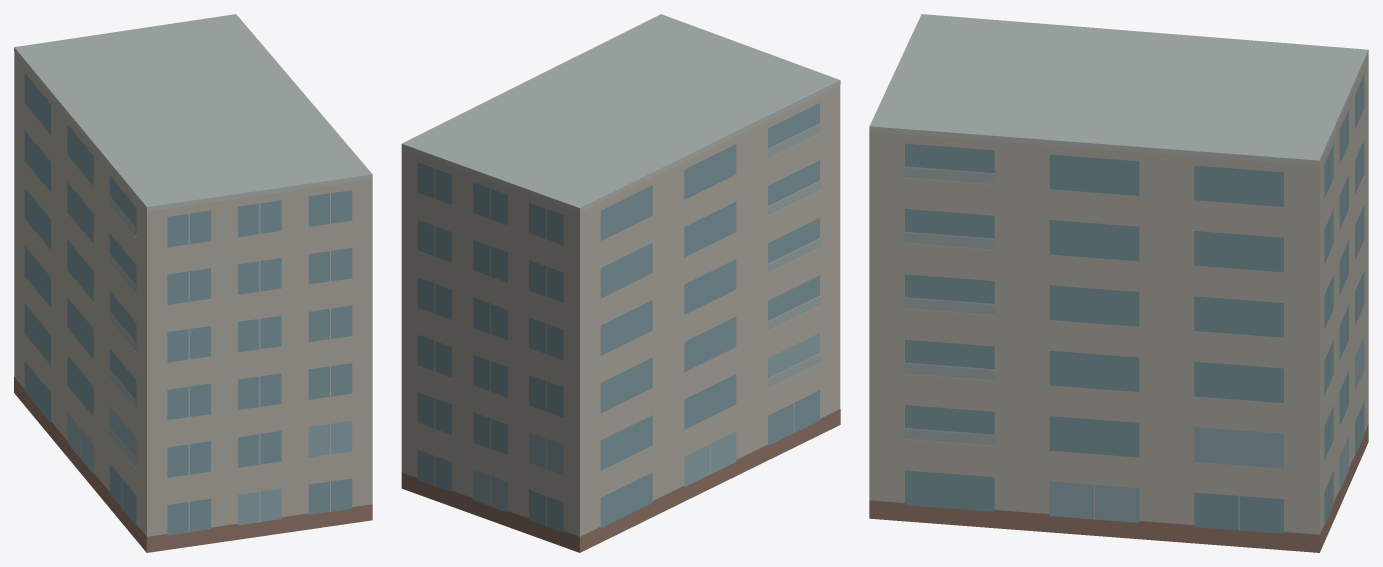
The model's file is survey-upis-32665458.glb.
The picture shows the model from 3 angles, left to right: view 1: azimuth 30°, elevation 25°; view 2: azimuth 150°, elevation 25°; view 3: azimuth 270°, elevation 25°; orthographic projection. The views are drawn at different scales.
Visible parts, largest first — view 1: survey-upis-32665458.tmp; view 2: survey-upis-32665458.tmp; view 3: survey-upis-32665458.tmp.
Boxes of the visible parts, x1,y1,x2,y2 form: survey-upis-32665458.tmp: [14, 14, 372, 552]; survey-upis-32665458.tmp: [401, 14, 840, 552]; survey-upis-32665458.tmp: [869, 14, 1368, 552].
Size of the model in its own units: 14.67 by 18.3 by 21.11.
